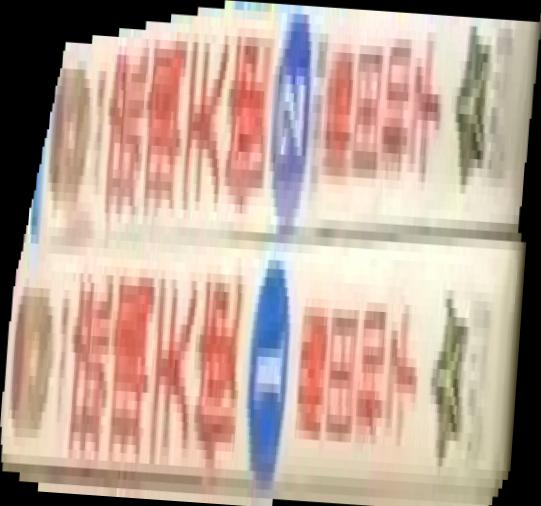flat: (1, 1, 541, 506)
